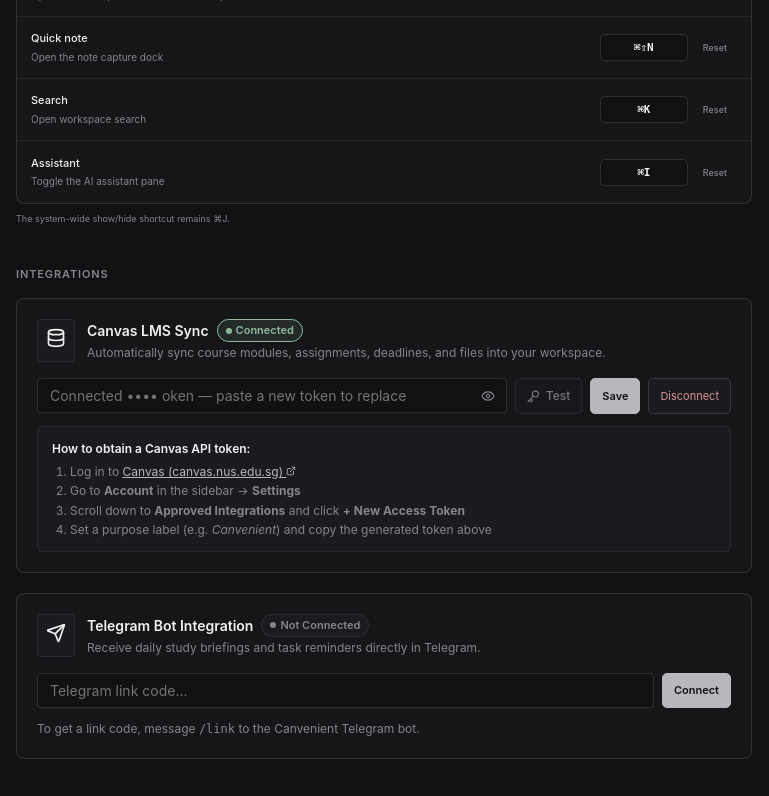
Test case: SettingsView Enhancements › allows disconnecting Canvas token
(page scrolled)
Expected: the text "Connected" is shown, [217,319,303,342]
Click the button "Disconnect": (690, 396) [648,378,731,414]
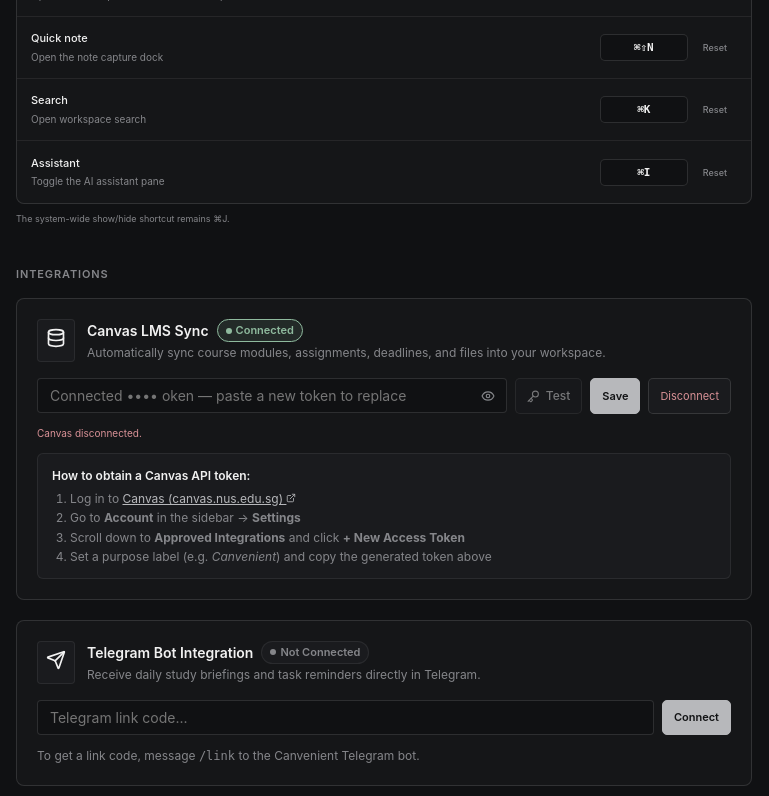
Expected: the text "Canvas disconnected." is shown, [37,427,142,439]
